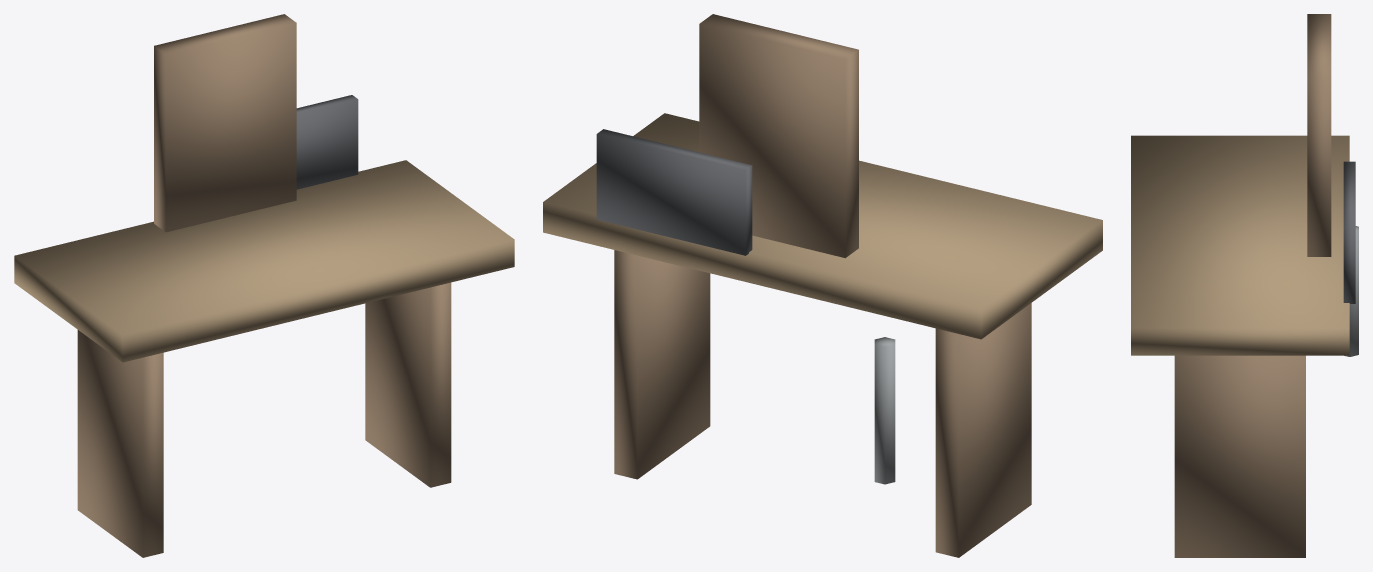
File: altar_table__service.glb
3 renders of one model, left to right at view 1: azimuth 30°, elevation 25°; view 2: azimuth 150°, elevation 25°; view 3: azimuth 270°, elevation 25°, orthographic. The views are drawn at different scales.
Visible parts, largest first — view 1: world; view 2: world; view 3: world.
Part boxes in pixels (x1,y1,x2,y2): world: (14,14,514,557); world: (543,14,1102,557); world: (1131,14,1358,557).
Size of the model in its own units: 1.5 by 1.59 by 0.7503.
